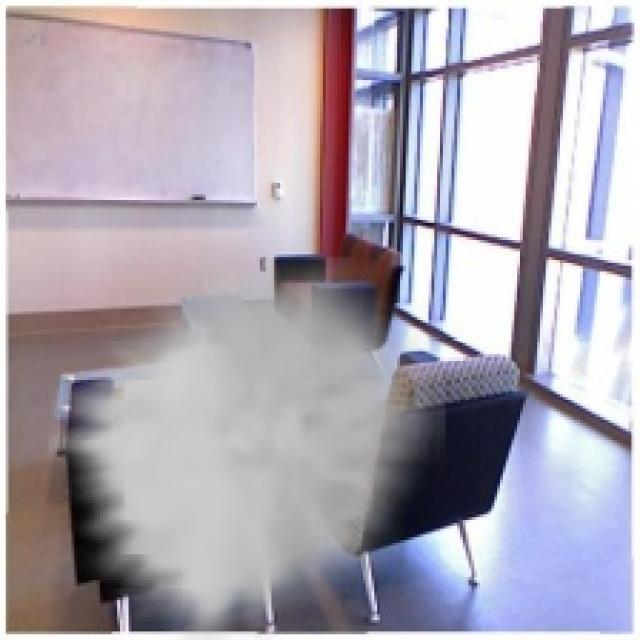Smoke: (49, 257, 448, 637)
